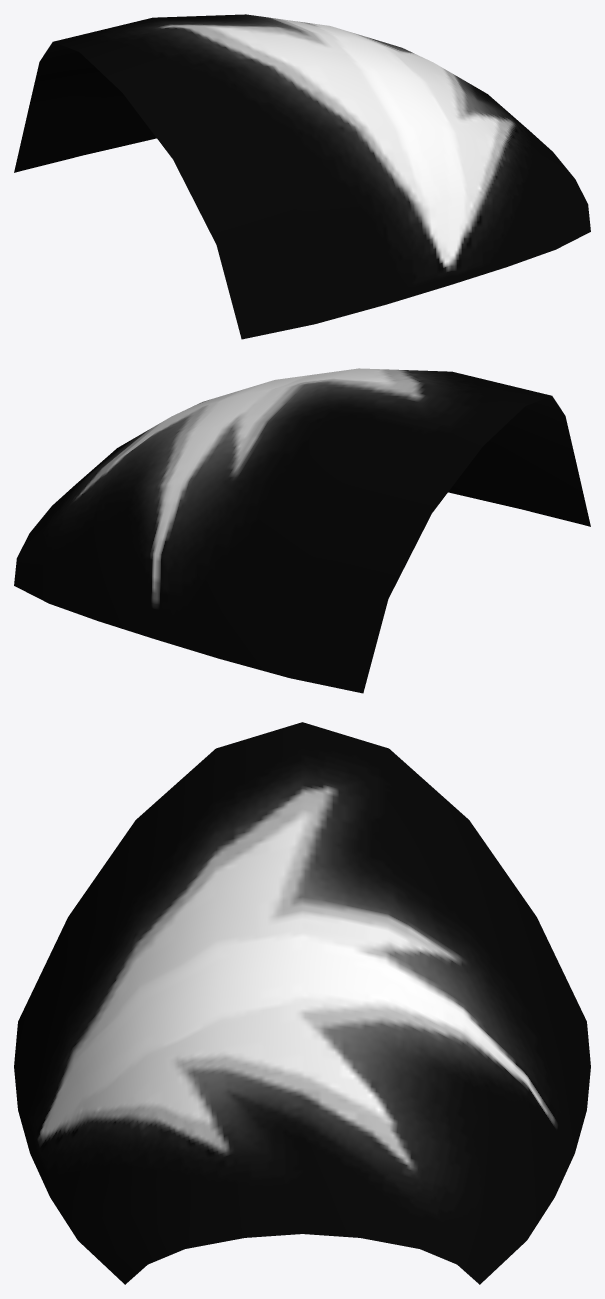
Rendered from 0218_baojiwen_air01.glb.
3 renders of one model, top to bottom at view 1: azimuth 30°, elevation 25°; view 2: azimuth 150°, elevation 25°; view 3: azimuth 270°, elevation 25°, orthographic. The views are drawn at different scales.
Size of the model in its own units: 2.2 by 1.1 by 1.95.
Materials: 1 (1 with a texture image).
